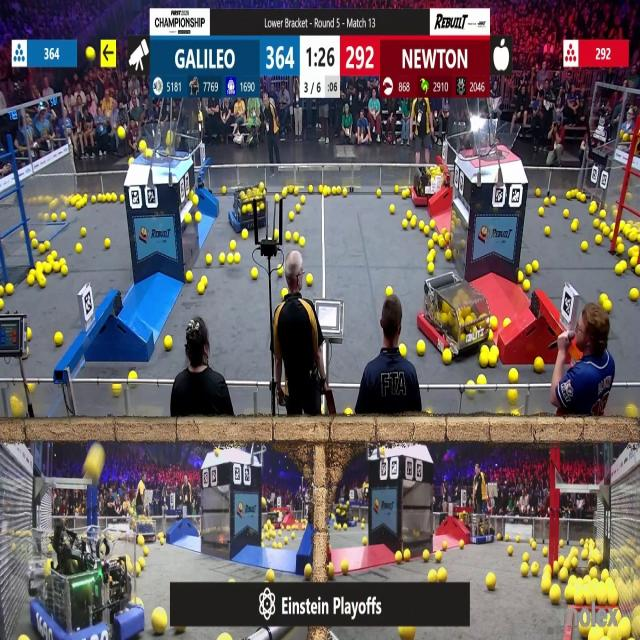ball_airborne: (87, 446, 105, 479), (88, 46, 96, 60), (117, 128, 124, 140), (166, 136, 173, 148), (140, 141, 147, 151), (145, 148, 152, 158), (380, 448, 386, 457), (129, 159, 133, 166)
ball_ground: (154, 610, 168, 636), (550, 586, 562, 604), (400, 626, 415, 640), (486, 573, 496, 589), (11, 403, 21, 418), (490, 348, 498, 366), (534, 357, 543, 372), (627, 406, 637, 419), (565, 588, 573, 604), (417, 342, 426, 356), (267, 568, 276, 582), (481, 352, 490, 366), (56, 333, 64, 348), (510, 368, 519, 381), (509, 389, 518, 402), (305, 564, 313, 578), (444, 350, 452, 364), (165, 338, 173, 352), (560, 568, 568, 582), (490, 317, 498, 330), (522, 563, 530, 576), (540, 581, 548, 594), (427, 570, 436, 581), (342, 560, 349, 574), (630, 288, 638, 300), (439, 569, 447, 581), (38, 276, 46, 288), (617, 264, 625, 276), (402, 550, 410, 562), (603, 302, 611, 313), (395, 552, 402, 564), (307, 274, 314, 286), (531, 562, 538, 574), (5, 284, 13, 294), (630, 256, 638, 266), (44, 265, 52, 275), (542, 564, 550, 574), (176, 626, 184, 636), (185, 272, 192, 283), (251, 269, 258, 280), (446, 249, 453, 260), (602, 225, 609, 236), (399, 345, 405, 357), (524, 280, 530, 292), (27, 327, 33, 339), (535, 263, 541, 275), (526, 264, 532, 276), (516, 272, 522, 284), (200, 277, 208, 286), (386, 286, 393, 296), (28, 276, 35, 286), (226, 253, 233, 263), (198, 284, 205, 294), (618, 244, 625, 254), (36, 263, 43, 273), (440, 239, 447, 249), (411, 218, 418, 228), (284, 232, 291, 242), (589, 205, 596, 215), (28, 383, 35, 393), (219, 253, 225, 264), (428, 264, 434, 275), (596, 235, 602, 246), (62, 267, 68, 278), (55, 265, 61, 276), (328, 563, 333, 576), (112, 384, 120, 392), (479, 376, 486, 385), (427, 253, 434, 262), (130, 369, 137, 378), (577, 192, 584, 201), (467, 389, 474, 398), (435, 552, 441, 562), (194, 212, 200, 222), (423, 552, 429, 562), (571, 220, 577, 230), (206, 254, 212, 264), (583, 242, 589, 252), (543, 225, 549, 235), (502, 318, 508, 328), (231, 241, 237, 251), (185, 214, 191, 224), (571, 558, 577, 568), (39, 244, 45, 254), (488, 333, 494, 343), (191, 196, 197, 206), (554, 561, 560, 571), (523, 554, 530, 562), (292, 234, 299, 242), (322, 188, 329, 196), (137, 536, 144, 544), (298, 238, 304, 247), (236, 253, 242, 262), (362, 536, 368, 545), (76, 244, 82, 253), (538, 207, 544, 216), (551, 197, 557, 206), (32, 240, 38, 249), (390, 205, 396, 214), (105, 239, 110, 249), (507, 544, 512, 554), (635, 267, 640, 277), (542, 548, 547, 558), (424, 225, 429, 235), (600, 210, 605, 220), (136, 564, 141, 574), (564, 210, 570, 218), (282, 288, 288, 296), (60, 257, 66, 265), (288, 212, 294, 220), (600, 292, 606, 300), (92, 197, 98, 205), (594, 220, 600, 228), (50, 251, 56, 259), (277, 270, 283, 278), (61, 212, 67, 220), (30, 232, 36, 240), (243, 231, 248, 240), (460, 539, 465, 548), (80, 229, 85, 238), (275, 231, 280, 240), (428, 240, 433, 249), (402, 219, 407, 228), (299, 194, 304, 203), (609, 232, 614, 241), (106, 191, 111, 200), (0, 300, 4, 311), (0, 285, 4, 296), (346, 410, 352, 417), (534, 188, 540, 195), (275, 194, 281, 201), (513, 412, 520, 418), (221, 186, 227, 193), (227, 577, 234, 583), (467, 380, 473, 387), (98, 193, 104, 200), (408, 210, 413, 218), (51, 213, 56, 221), (144, 545, 148, 555), (432, 234, 437, 242), (394, 185, 399, 193), (343, 188, 348, 196), (76, 202, 81, 210), (420, 220, 424, 230), (565, 194, 570, 202), (617, 237, 622, 245), (444, 540, 448, 549), (282, 189, 286, 198), (426, 411, 432, 417), (278, 542, 284, 548), (19, 635, 26, 640), (401, 190, 406, 197), (284, 536, 289, 543), (309, 185, 314, 192), (430, 220, 435, 227), (92, 635, 99, 640), (503, 534, 508, 541), (532, 541, 536, 549), (378, 188, 382, 196), (295, 205, 299, 213), (120, 194, 124, 202), (544, 199, 548, 207), (112, 192, 116, 200), (517, 535, 521, 542), (497, 533, 501, 540), (292, 532, 296, 539), (344, 524, 348, 531), (560, 539, 564, 546), (259, 542, 264, 547), (162, 538, 166, 544), (273, 542, 277, 548), (361, 524, 364, 530)
goal: (464, 121, 520, 160), (132, 130, 188, 160)
robot_blue: (29, 528, 148, 639), (228, 184, 270, 232), (466, 514, 494, 544), (337, 502, 359, 526)
robot_red: (422, 275, 490, 358), (411, 163, 449, 206), (130, 515, 156, 542)
